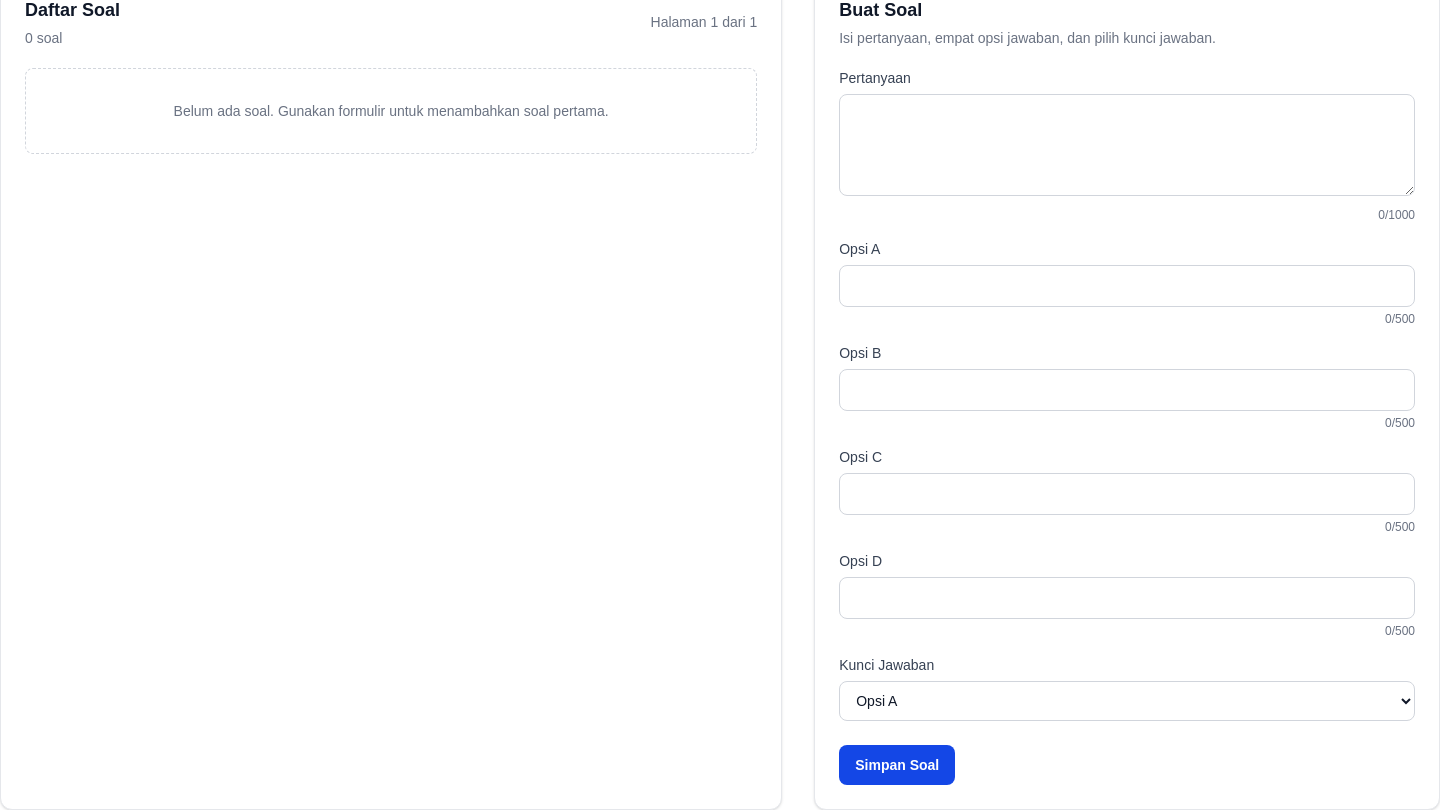
Test: QuestionBank › shows field validation messages returned by the API
(page scrolled)
Click the button "Simpan Soal".
click(897, 765)  # box [839,745,955,785]
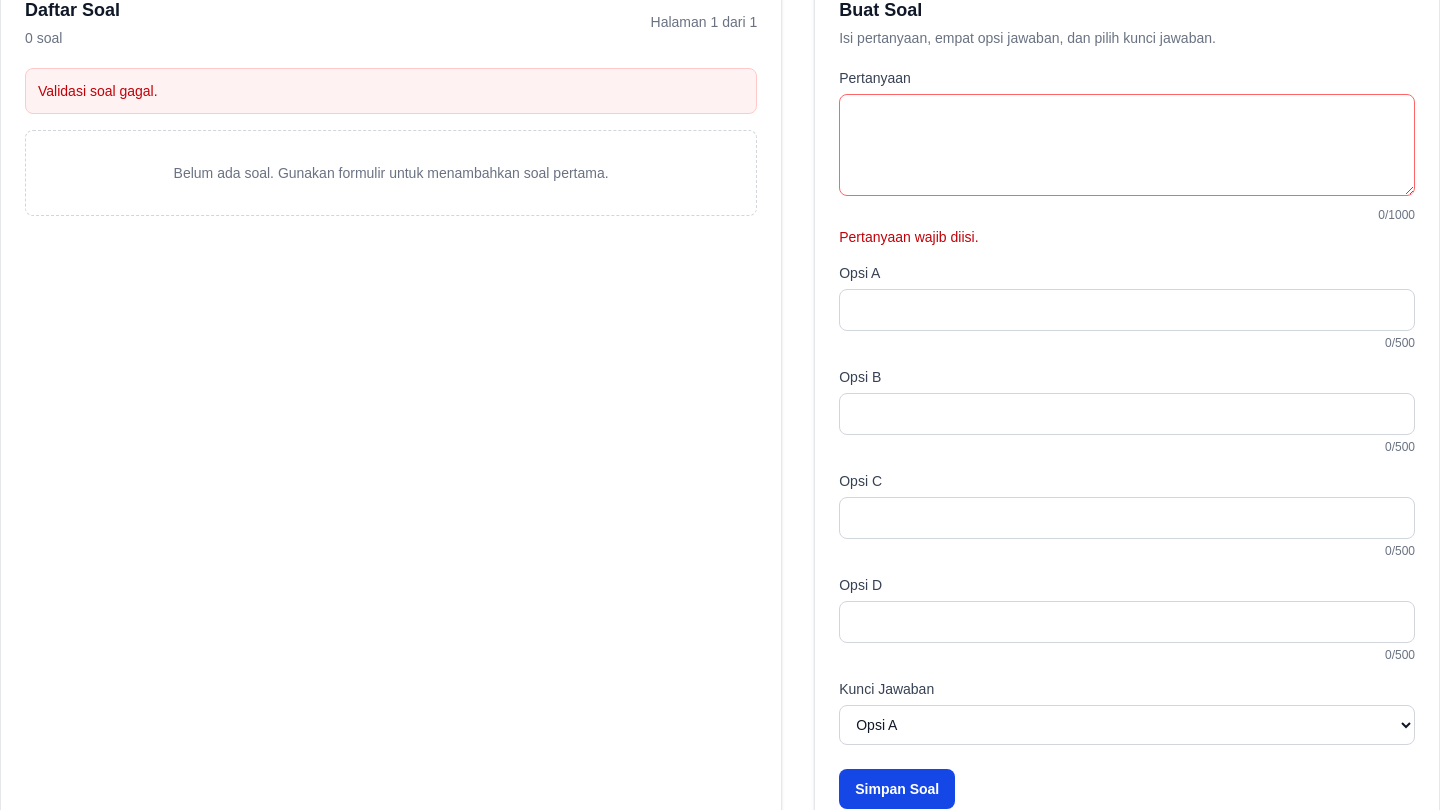
Result: the text "Pertanyaan wajib diisi." is shown at [839,229,978,245]
Result: the message reads "Validasi soal gagal." at [38,83,158,99]
